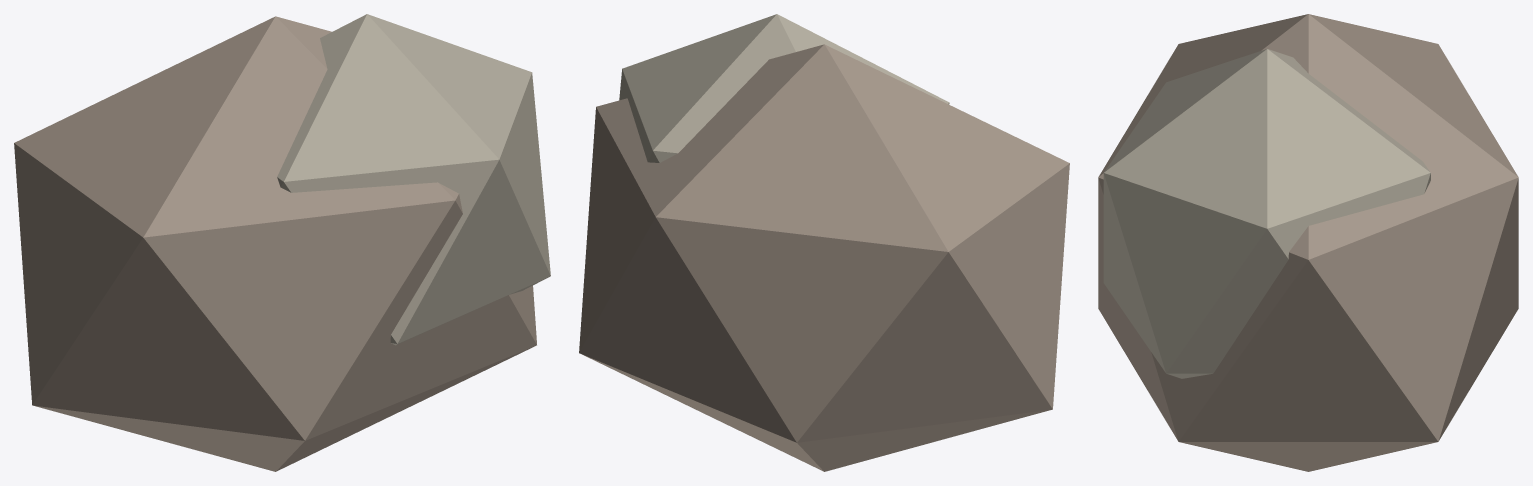
File: rock.glb
The picture shows the model from 3 angles, left to right: view 1: azimuth 30°, elevation 25°; view 2: azimuth 150°, elevation 25°; view 3: azimuth 270°, elevation 25°; orthographic projection. The views are drawn at different scales.
Visible parts, largest first — view 1: Rock, Rock face; view 2: Rock, Rock face; view 3: Rock, Rock face.
Part boxes in pixels (x1=…): Rock: x1=14, y1=16, x2=536, y2=471; Rock face: x1=277, y1=14, x2=550, y2=345; Rock: x1=579, y1=44, x2=1069, y2=471; Rock face: x1=619, y1=14, x2=949, y2=162; Rock: x1=1098, y1=14, x2=1518, y2=471; Rock face: x1=1103, y1=49, x2=1430, y2=378.
Bounding box in the file's own units: 2.06 × 1.84 × 1.53.
